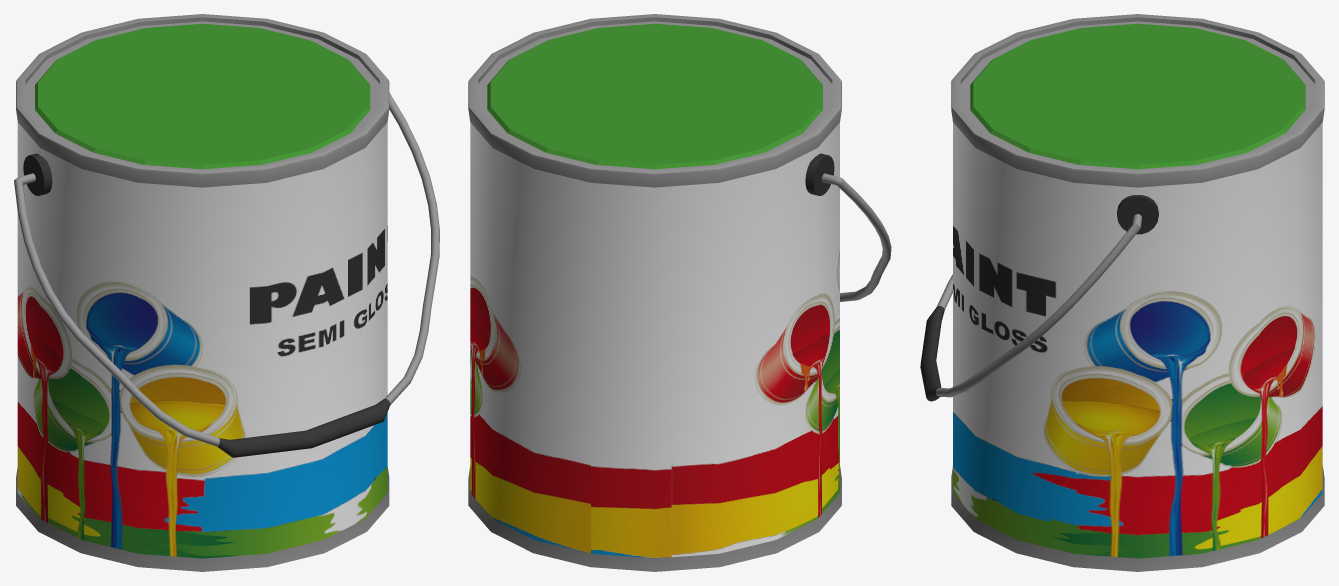
The model's file is Paint can 3.FBX.
3 renders of one model, left to right at view 1: azimuth 30°, elevation 25°; view 2: azimuth 150°, elevation 25°; view 3: azimuth 270°, elevation 25°, orthographic.
Visible parts, largest first — view 1: paint can 3; view 2: paint can 3; view 3: paint can 3.
Boxes of the visible parts, <box> form: paint can 3: <box>14,14,439,571</box>; paint can 3: <box>468,14,891,571</box>; paint can 3: <box>920,14,1324,571</box>.
Bounding box in the file's own units: 16.83 × 16.24 × 14.93.
2 materials, 1 textured.
